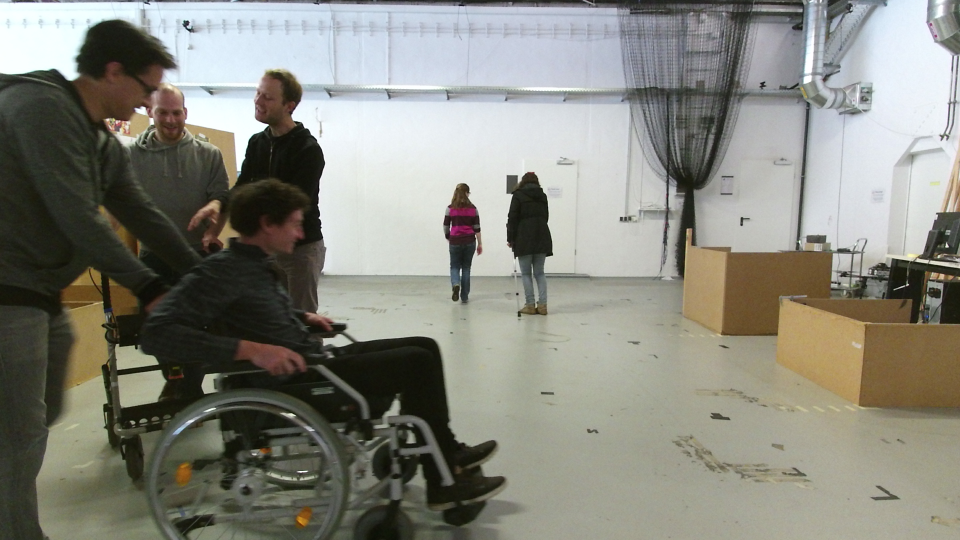crutches: (502, 165, 559, 321)
